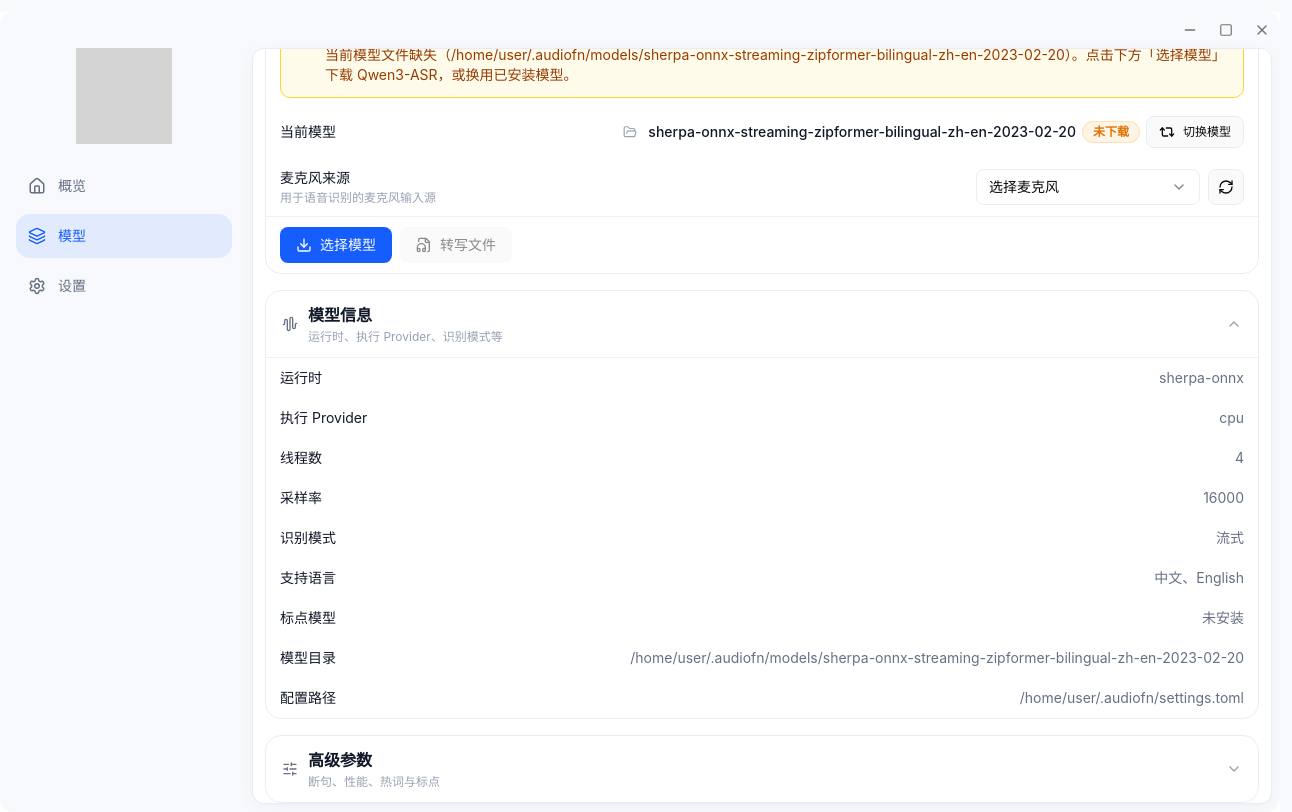
AsrPage（语音识别配置） › 高级参数展开回显真实参数值
(page scrolled)
Click the button "高级参数 断句、性能、热词与标点". click: {"x": 340, "y": 760}
box: [266,736,1258,802]
(page scrolled)
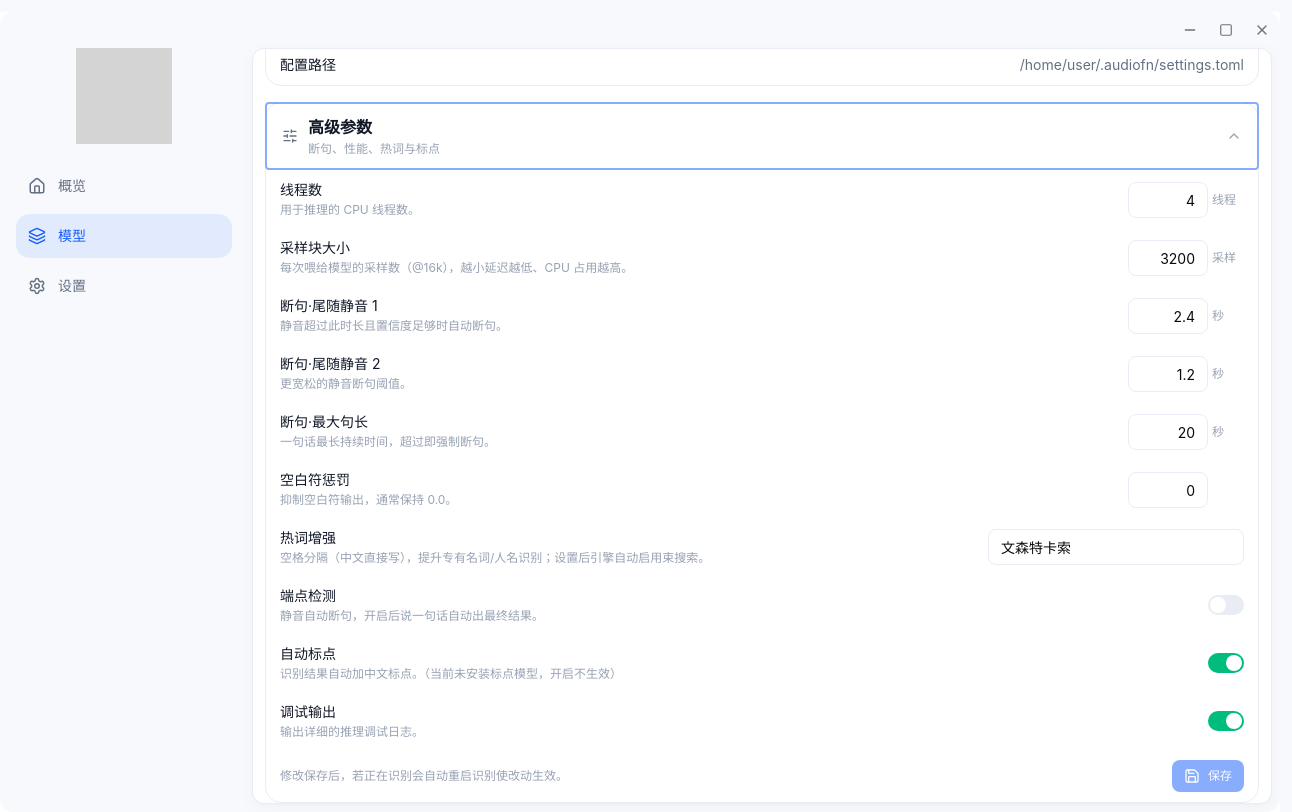
Result: the button "高级参数 断句、性能、热词与标点" is expanded at [266,103,1258,169]
Result: the field named "线程数" holds "4" at [1128,182,1208,218]
Result: the field named "采样块大小" holds "3200" at [1128,240,1208,276]
